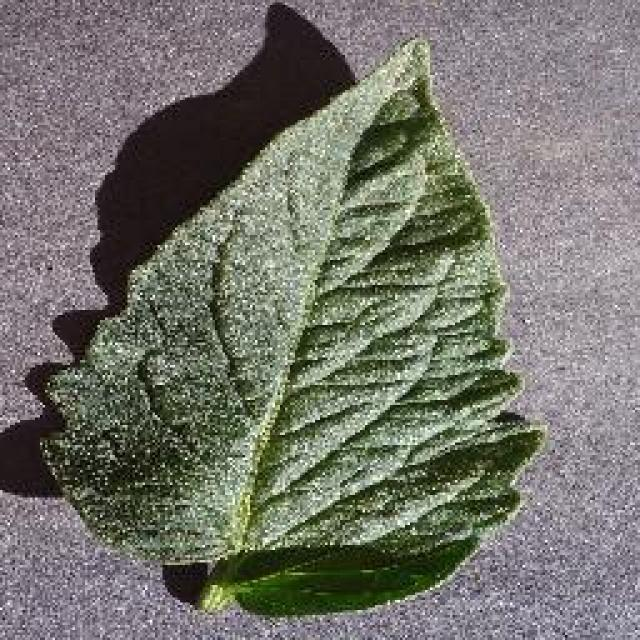Tomato healthy leaf: (54, 44, 526, 606)
